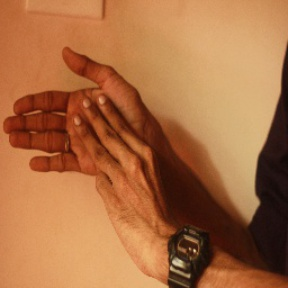M: (3, 42, 156, 188)
